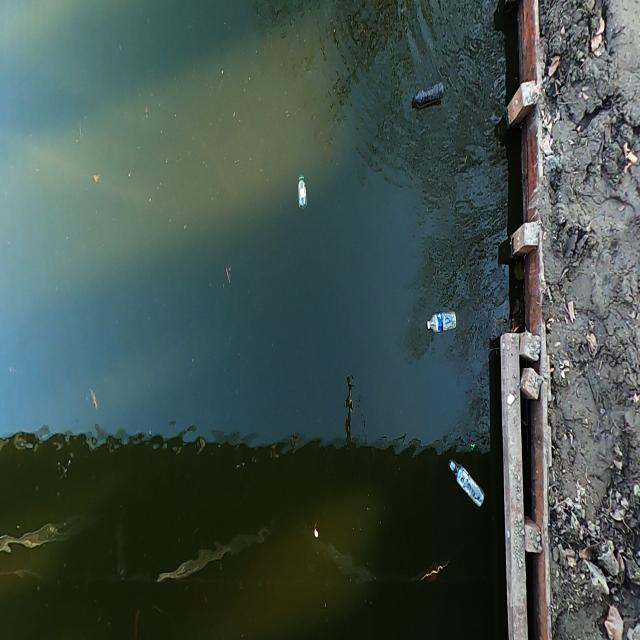Bouteille plastique: (448, 458, 487, 508), (415, 83, 443, 105), (428, 313, 457, 330), (298, 176, 306, 207)
